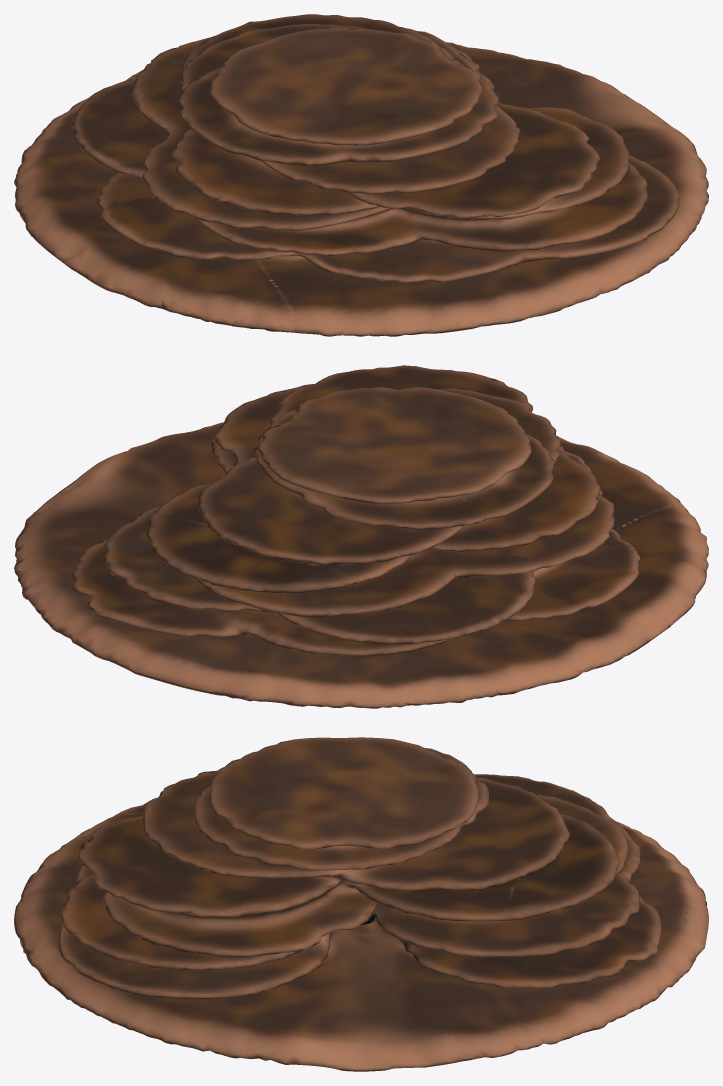
The model's file is TavernWithMaterial.fbx.
3 renders of one model, top to bottom at view 1: azimuth 30°, elevation 25°; view 2: azimuth 150°, elevation 25°; view 3: azimuth 270°, elevation 25°, orthographic.
Parts seen in each view (by area): view 1: TavernOutside; view 2: TavernOutside; view 3: TavernOutside.
Part boxes in pixels (<box>): TavernOutside: <box>14,14,708,336</box>; TavernOutside: <box>14,365,708,708</box>; TavernOutside: <box>14,737,708,1071</box>.
Bounding box in the file's own units: 26130 × 5269 × 26287.
